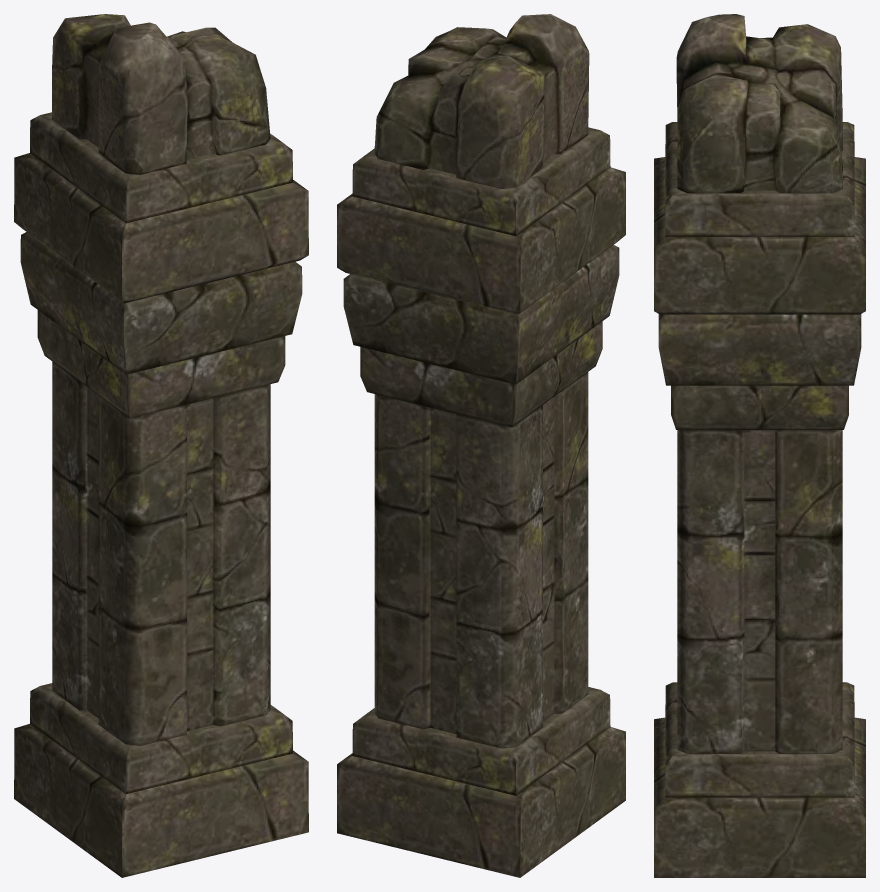
File: Column_Broken_04-transformed.glb
The picture shows the model from 3 angles, left to right: view 1: azimuth 30°, elevation 25°; view 2: azimuth 150°, elevation 25°; view 3: azimuth 270°, elevation 25°; orthographic projection. The views are drawn at different scales.
Visible parts, largest first — view 1: default; view 2: default; view 3: default.
Boxes of the visible parts, x1,y1,x2,y2 form: default: (14, 14, 308, 877); default: (337, 14, 625, 877); default: (654, 14, 865, 877).
Size of the model in its own units: 1.37 by 5.68 by 1.37.
Materials: 1 (1 with a texture image).
